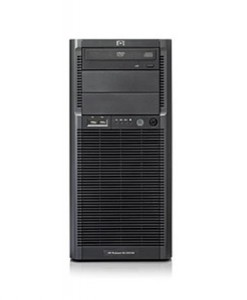ibm-server: (60, 29, 186, 268)
